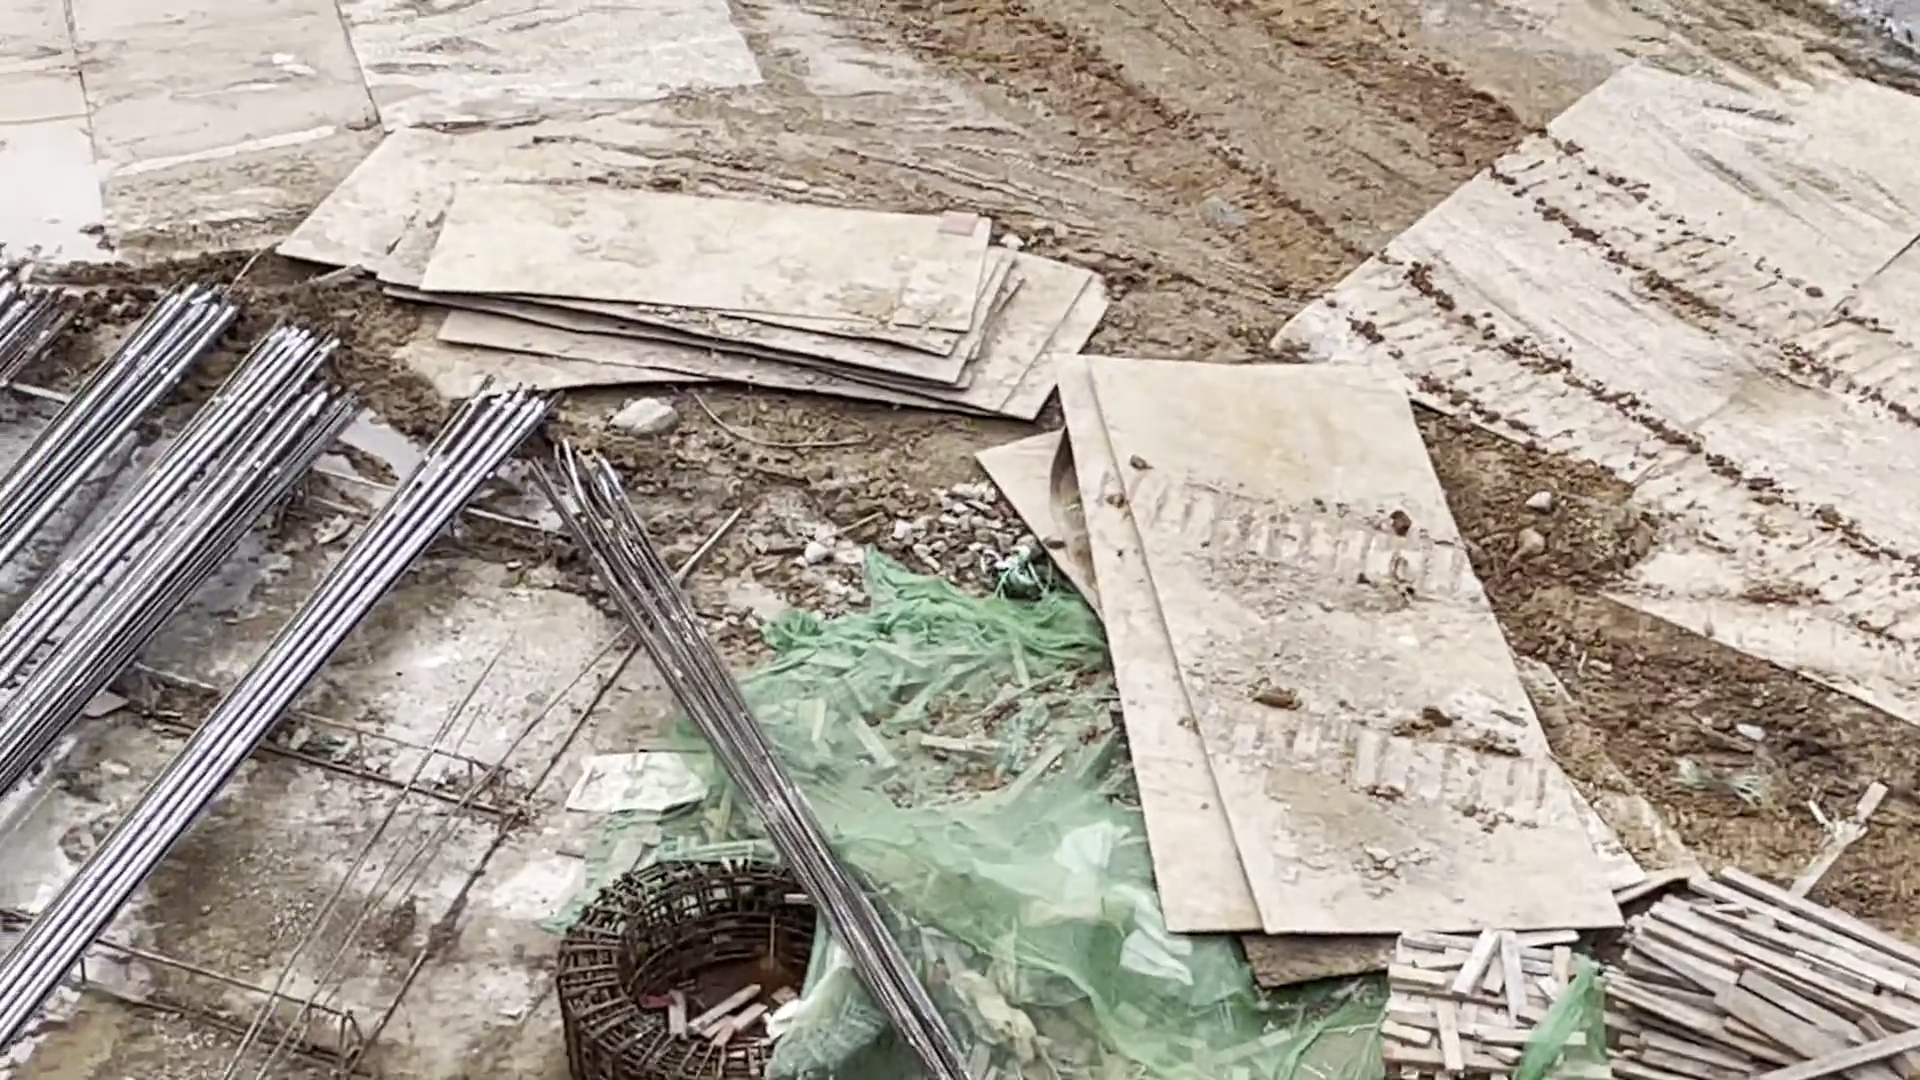rebar: (4, 306, 539, 1044), (541, 458, 982, 1080)
wood: (1391, 930, 1555, 1080)
